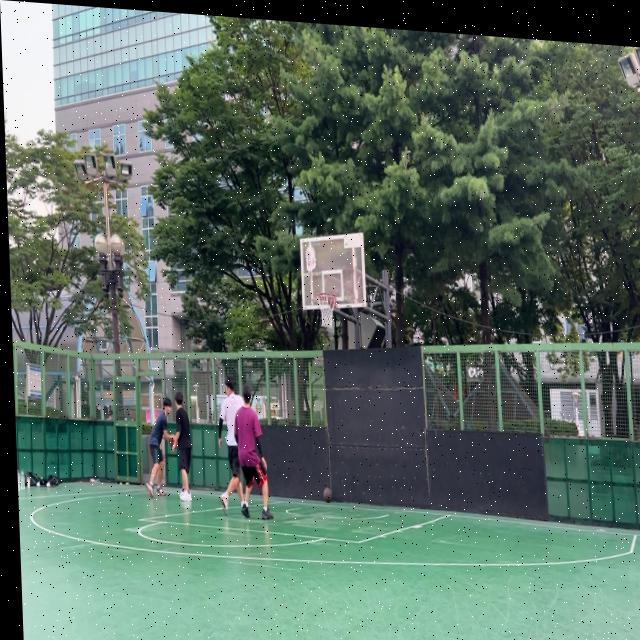basketball: (323, 486, 333, 504), (170, 438, 174, 448)
hoop: (316, 290, 338, 329)
